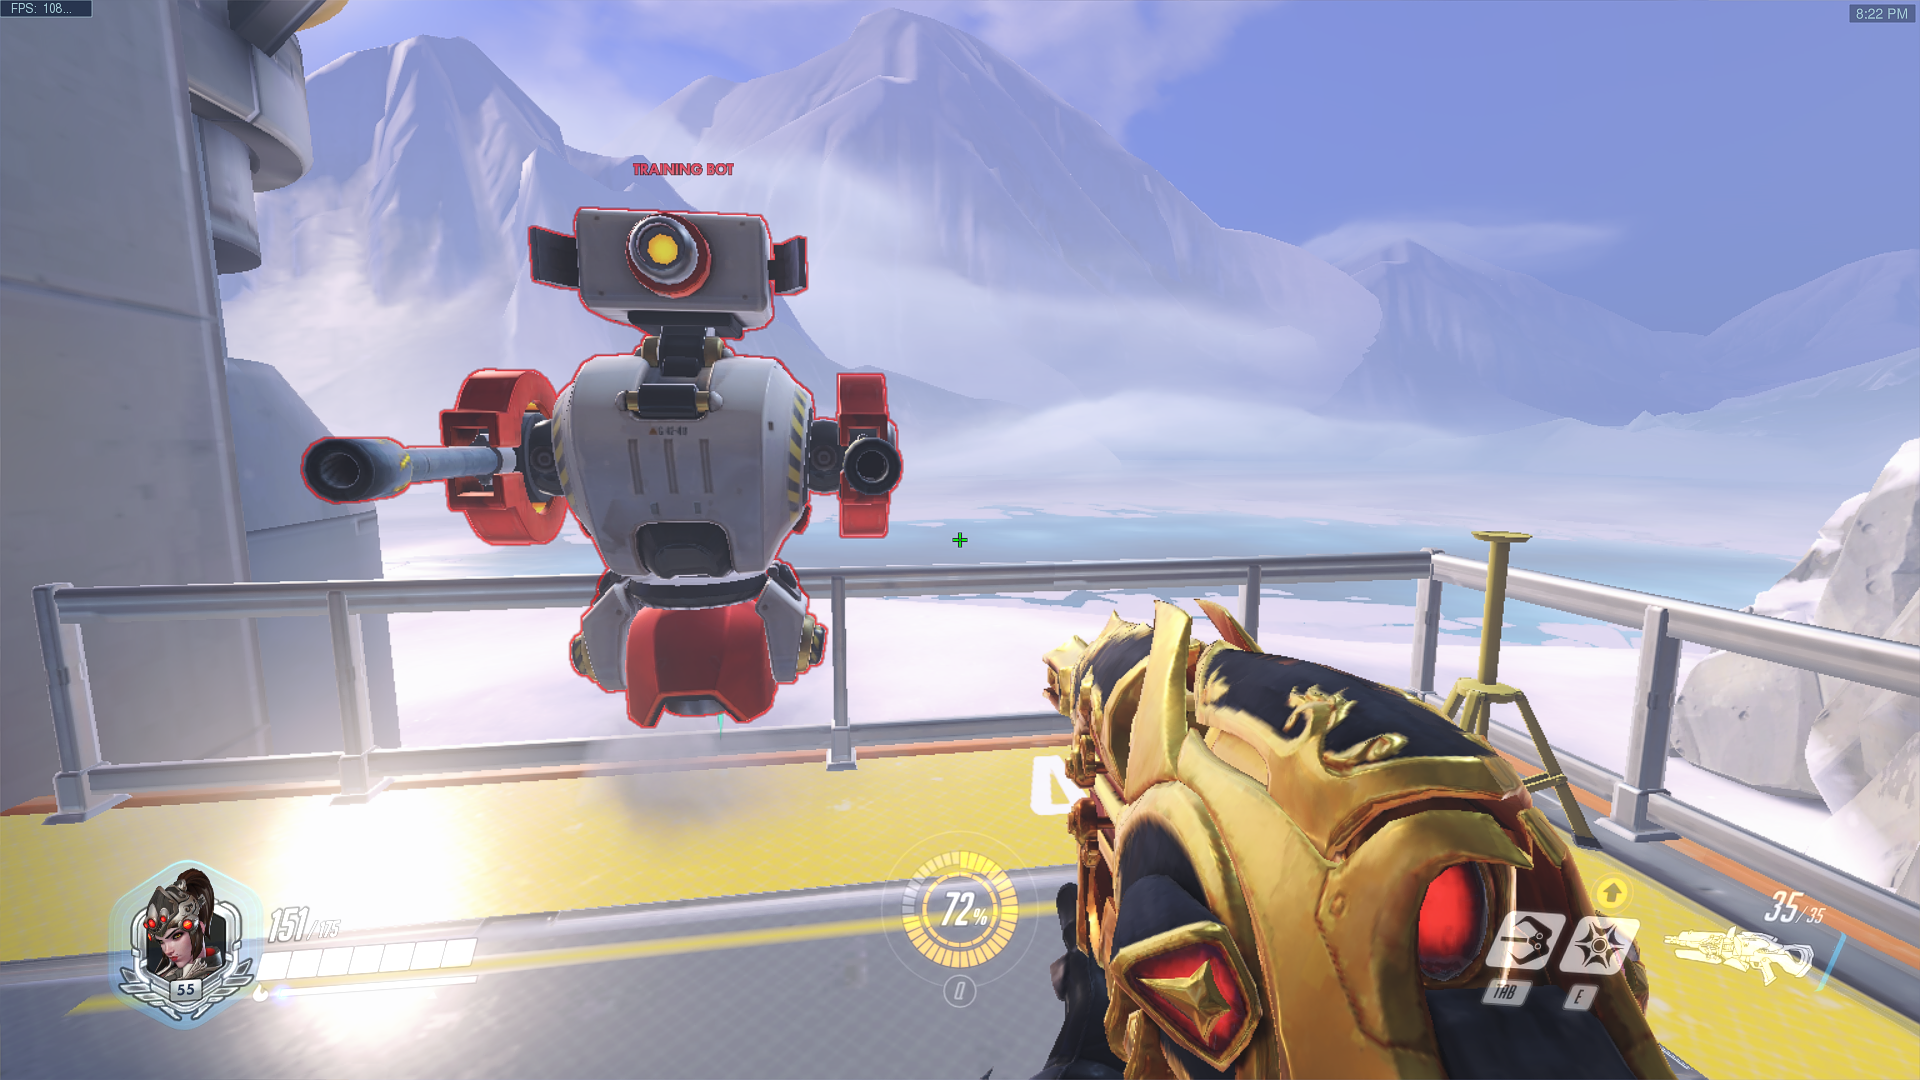head: (578, 211, 776, 330)
